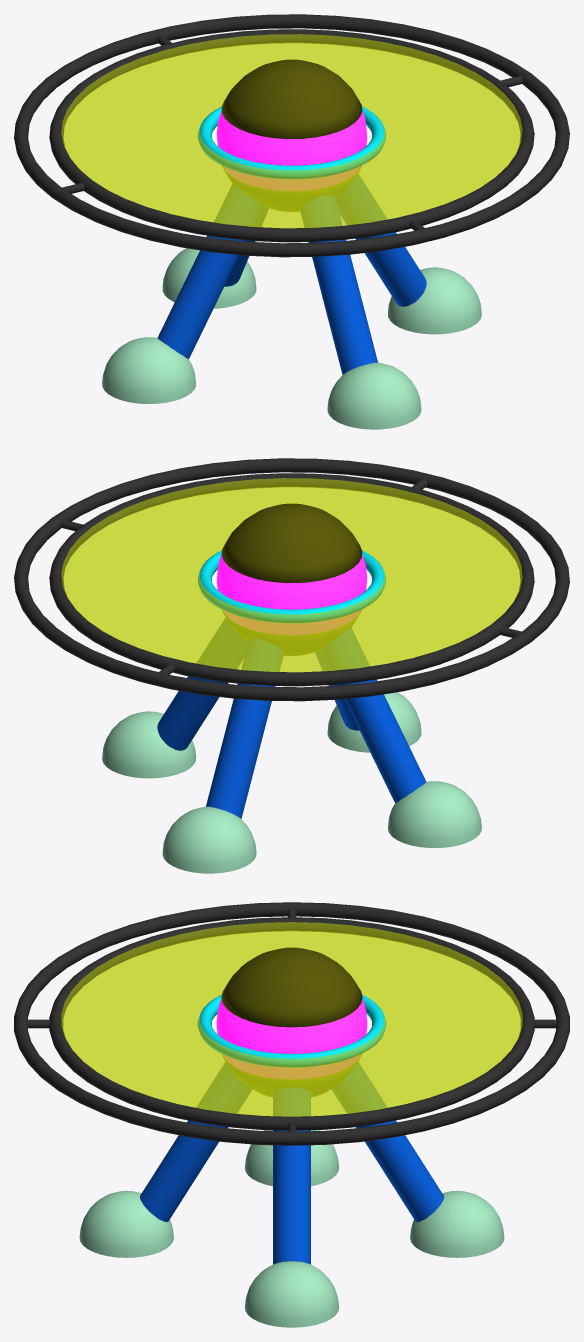
File: SaturnTable_Commission_DNB.fbx
3 renders of one model, top to bottom at view 1: azimuth 30°, elevation 25°; view 2: azimuth 150°, elevation 25°; view 3: azimuth 270°, elevation 25°, orthographic.
Visible parts, largest first — view 1: AreaCylinder, TorusRingHandle, TorusRingEdge, SphereCap, Legsar, Legsar.002, SpherePlanet, LegsarFeet.003, LegsarFeet, LegsarFeet.002, TorusRingInner, LegsarFeet.001; view 2: AreaCylinder, TorusRingHandle, TorusRingEdge, SphereCap, Legsar, Legsar.002, SpherePlanet, LegsarFeet.001, LegsarFeet, LegsarFeet.002, TorusRingInner, LegsarFeet.003; view 3: AreaCylinder, TorusRingHandle, TorusRingEdge, SphereCap, Legsar.002, SpherePlanet, Legsar, LegsarFeet.002, LegsarFeet.001, LegsarFeet.003, TorusRingInner, LegsarFeet.
Boxes of the visible parts, x1=… form: AreaCylinder: x1=61, y1=34, x2=522, y2=228; TorusRingHandle: x1=14, y1=14, x2=569, y2=257; TorusRingEdge: x1=49, y1=29, x2=534, y2=242; SphereCap: x1=221, y1=59, x2=362, y2=211; Legsar: x1=157, y1=174, x2=426, y2=359; Legsar.002: x1=224, y1=195, x2=377, y2=374; SpherePlanet: x1=216, y1=110, x2=367, y2=190; LegsarFeet.003: x1=327, y1=362, x2=421, y2=429; LegsarFeet: x1=102, y1=337, x2=195, y2=403; LegsarFeet.002: x1=388, y1=267, x2=481, y2=334; TorusRingInner: x1=197, y1=106, x2=385, y2=179; LegsarFeet.001: x1=162, y1=248, x2=256, y2=308; AreaCylinder: x1=61, y1=478, x2=522, y2=672; TorusRingHandle: x1=14, y1=458, x2=569, y2=701; TorusRingEdge: x1=49, y1=473, x2=534, y2=686; SphereCap: x1=221, y1=503, x2=362, y2=655; Legsar: x1=157, y1=618, x2=426, y2=803; Legsar.002: x1=206, y1=639, x2=359, y2=818; SpherePlanet: x1=216, y1=554, x2=367, y2=634; LegsarFeet.001: x1=162, y1=806, x2=256, y2=873; LegsarFeet: x1=388, y1=781, x2=481, y2=847; LegsarFeet.002: x1=102, y1=711, x2=195, y2=778; TorusRingInner: x1=198, y1=550, x2=386, y2=623; LegsarFeet.003: x1=327, y1=692, x2=421, y2=752; AreaCylinder: x1=61, y1=922, x2=522, y2=1116; TorusRingHandle: x1=14, y1=902, x2=569, y2=1145; TorusRingEdge: x1=49, y1=917, x2=534, y2=1130; SphereCap: x1=221, y1=947, x2=362, y2=1096; Legsar.002: x1=140, y1=1062, x2=443, y2=1221; SpherePlanet: x1=216, y1=998, x2=367, y2=1079; Legsar: x1=273, y1=1088, x2=310, y2=1264; LegsarFeet.002: x1=244, y1=1261, x2=339, y2=1327; LegsarFeet.001: x1=410, y1=1190, x2=504, y2=1257; LegsarFeet.003: x1=79, y1=1190, x2=173, y2=1257; TorusRingInner: x1=197, y1=994, x2=386, y2=1067; LegsarFeet: x1=245, y1=1130, x2=338, y2=1186.
Bounding box in the file's own units: 2.36 × 1.32 × 2.36.
